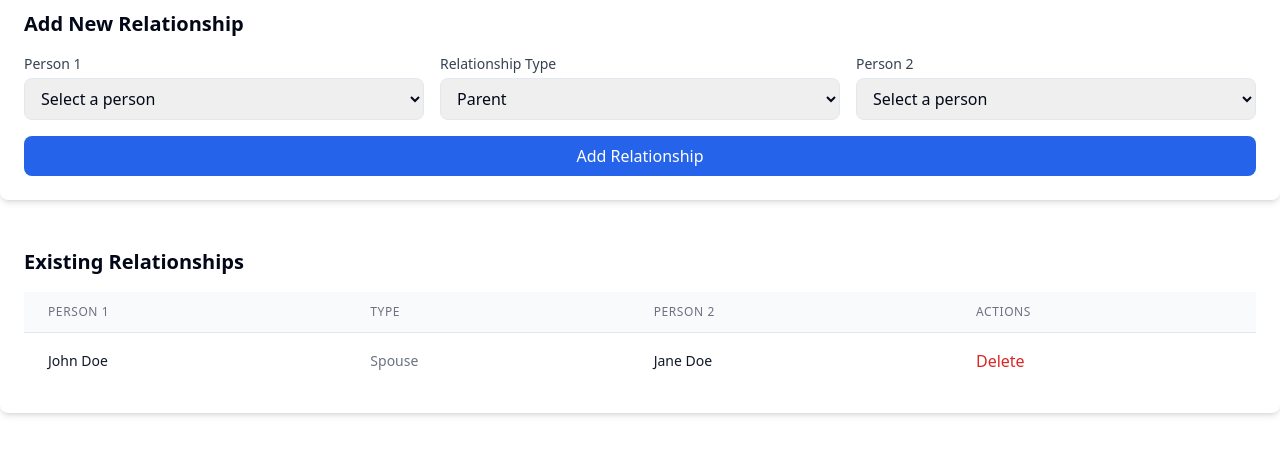
it: RelationshipManager › prevents creating duplicate relationships
Select "John Doe" in the dropdown named "Select first person": (224, 99) x1=24 y1=78 x2=424 y2=120
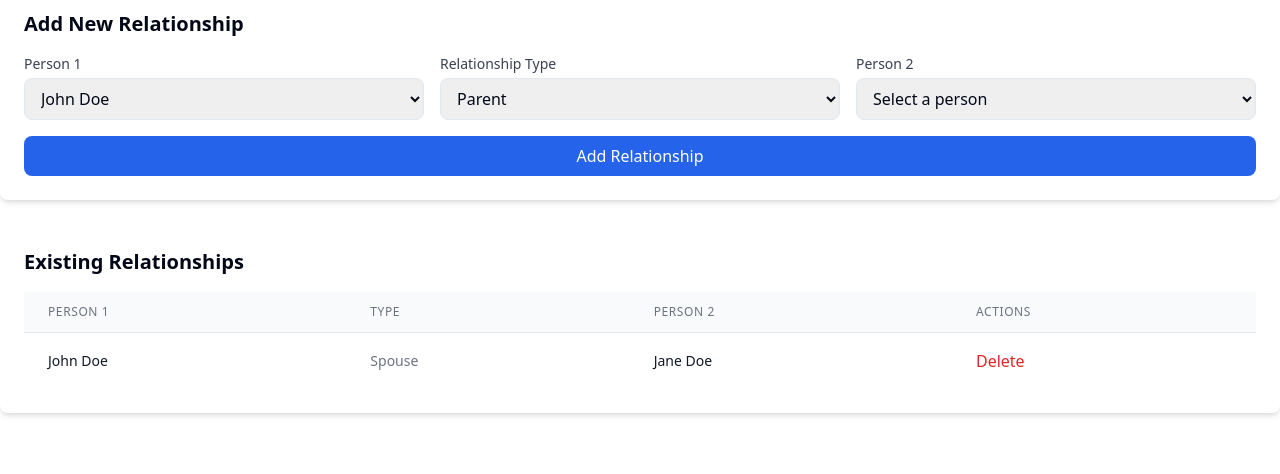
Select "Jane Doe" in the dropdown named "Select second person": (1056, 99) x1=856 y1=78 x2=1256 y2=120
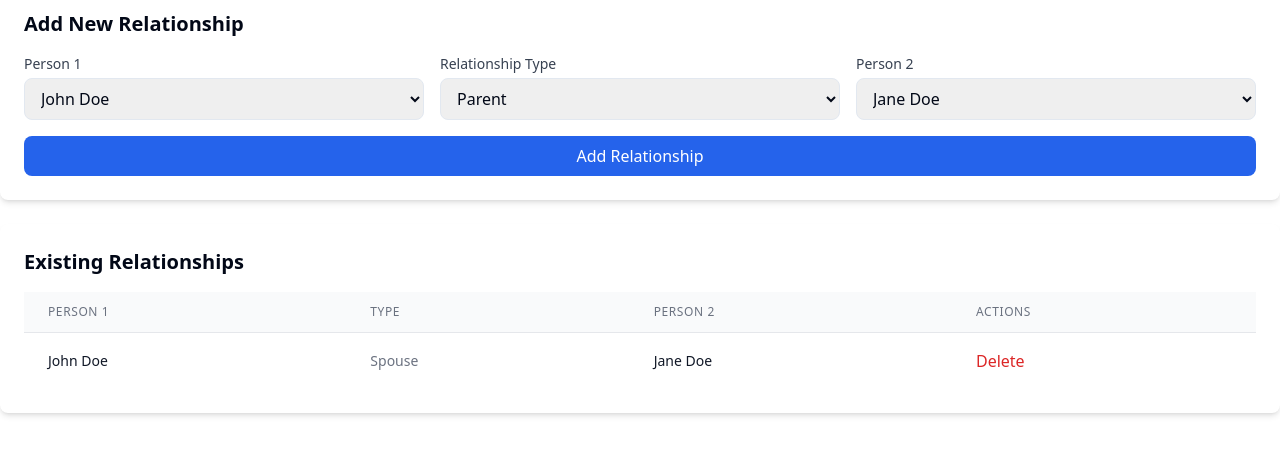
Select "Spouse" in the dropdown named "Select relationship type": (640, 99) x1=440 y1=78 x2=840 y2=120
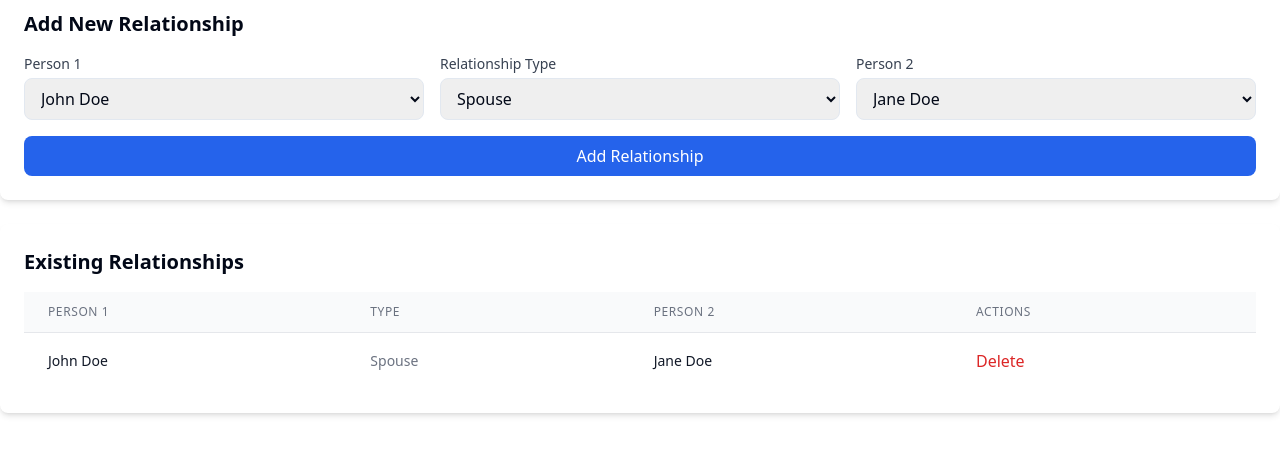
Click the button "Add Relationship": (640, 156) x1=24 y1=136 x2=1256 y2=176
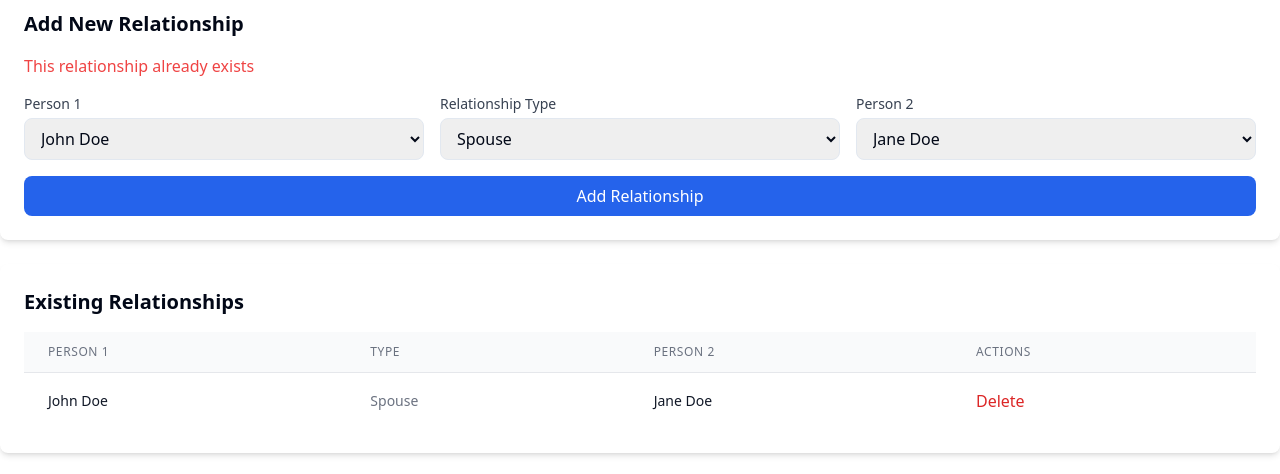
expect the text "This relationship already exists" is shown: met, box x1=24 y1=55 x2=254 y2=77
